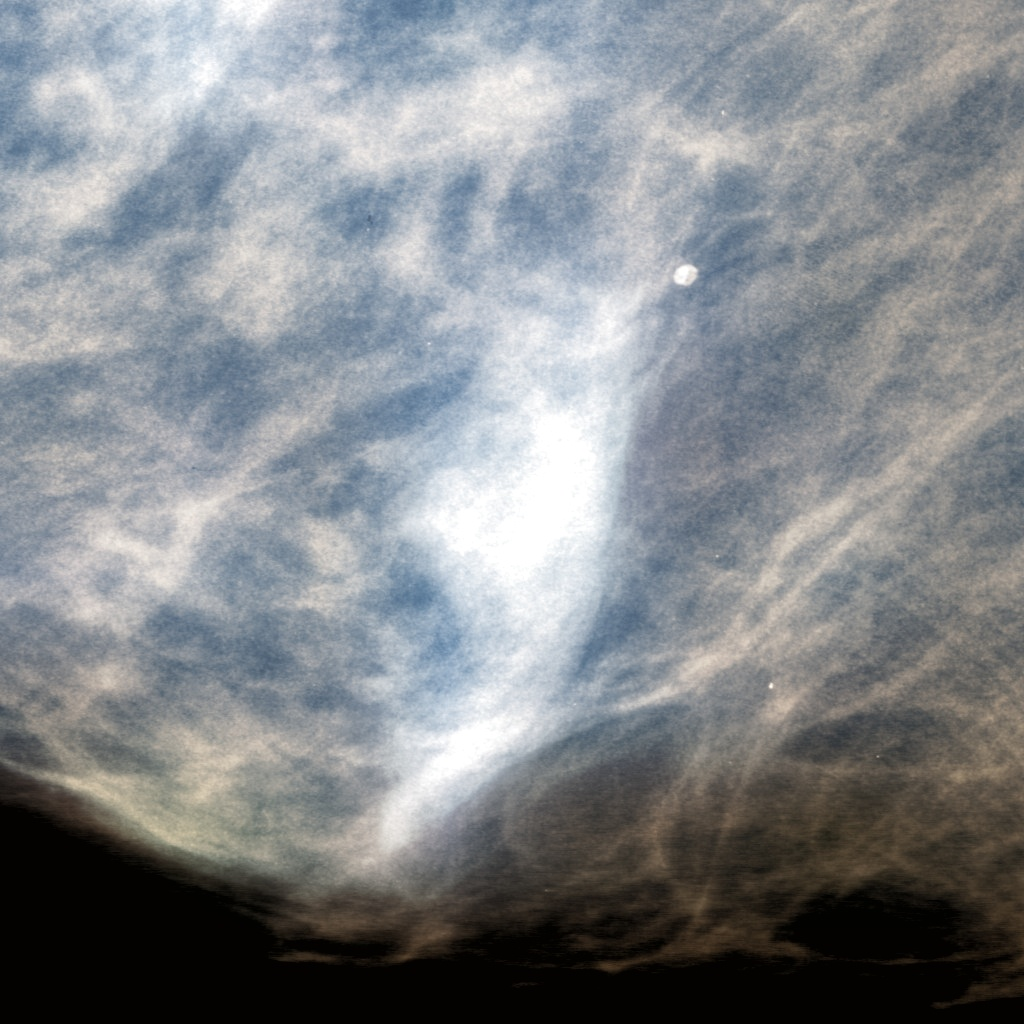tumor: (357, 326, 667, 698)
